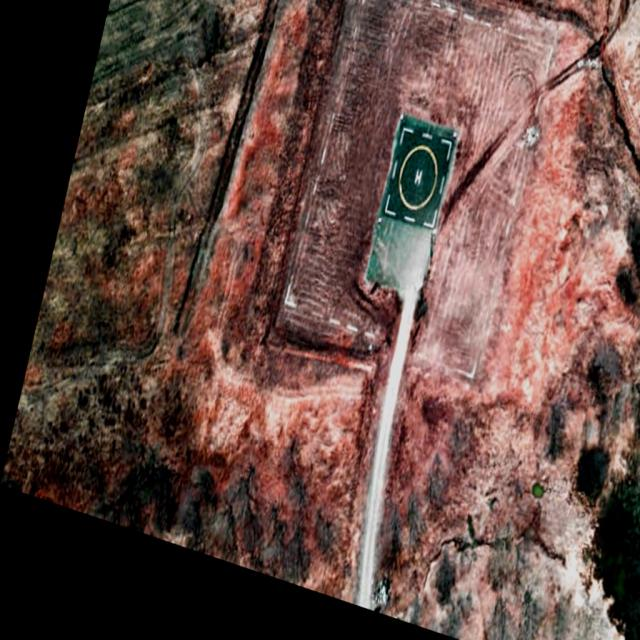helipad: (394, 142, 440, 210)
